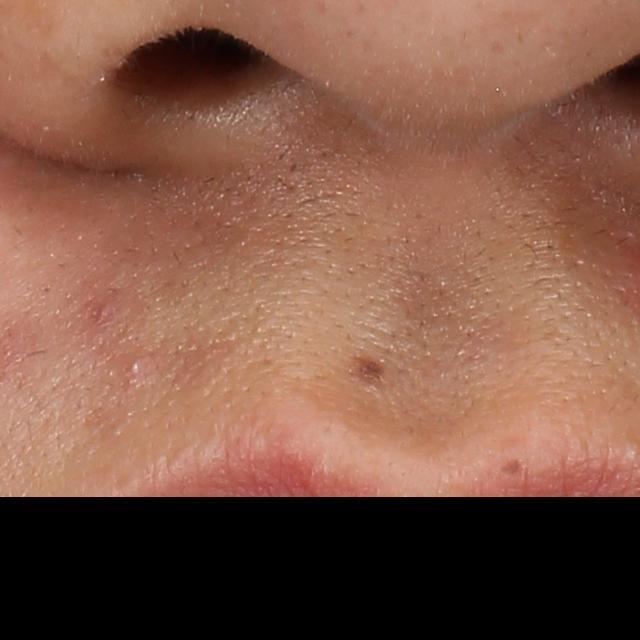comedo: (125, 352, 151, 377), (626, 448, 640, 460)
nevus: (355, 357, 383, 390), (498, 457, 526, 485)
